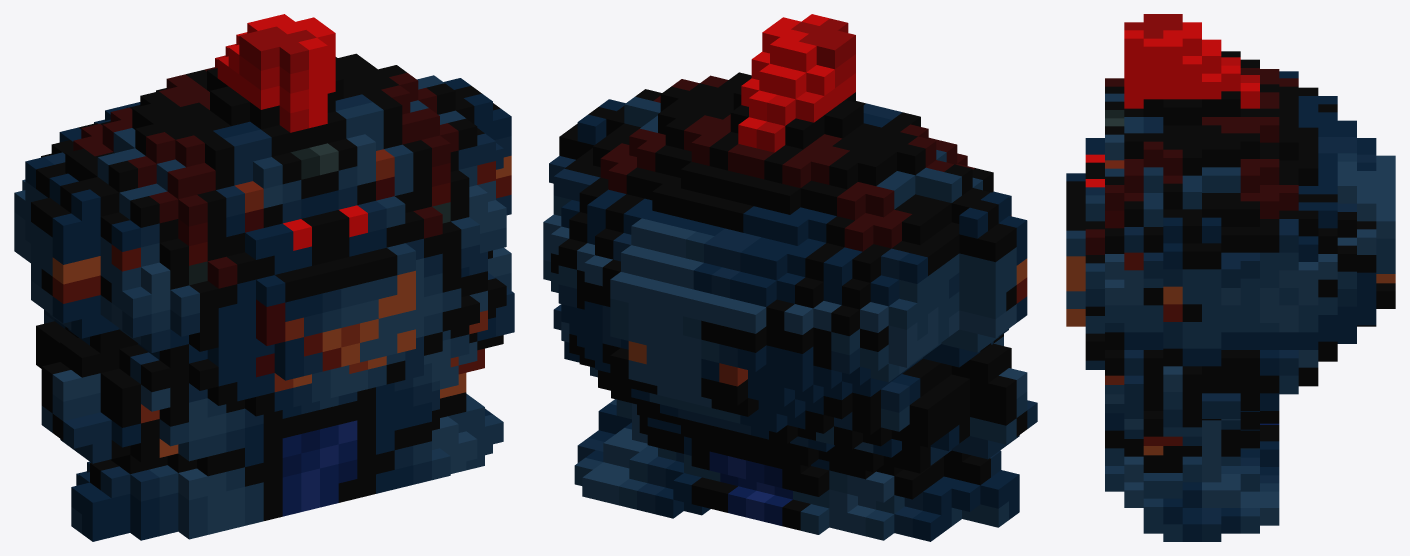
Rendered from Icon_721_01.obj.
The picture shows the model from 3 angles, left to right: view 1: azimuth 30°, elevation 25°; view 2: azimuth 150°, elevation 25°; view 3: azimuth 270°, elevation 25°; orthographic projection. The views are drawn at different scales.
Size of the model in its own units: 2.4 by 2.4 by 1.7.
Materials: 1 (1 with a texture image).
